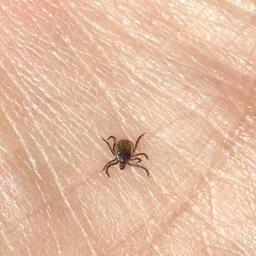Ixodes scapularis: (101, 134, 150, 178)
